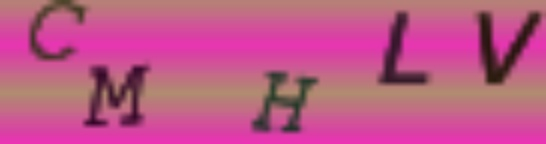C: (28, 1, 88, 65)
H: (245, 64, 319, 136)
L: (374, 9, 438, 86)
M: (81, 59, 152, 130)
V: (473, 3, 544, 86)
